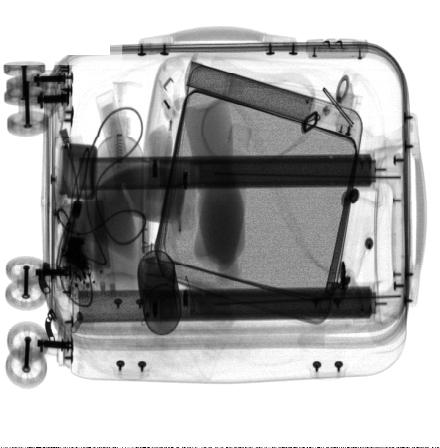Powerbank: (56, 195, 115, 297)
